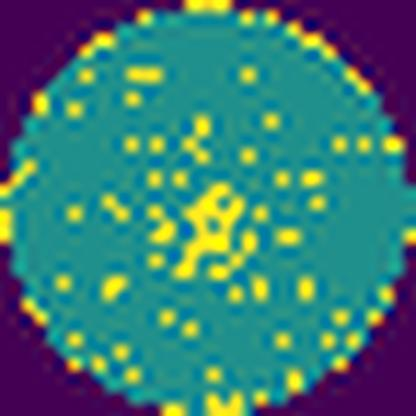Center: (172, 181, 249, 281)
